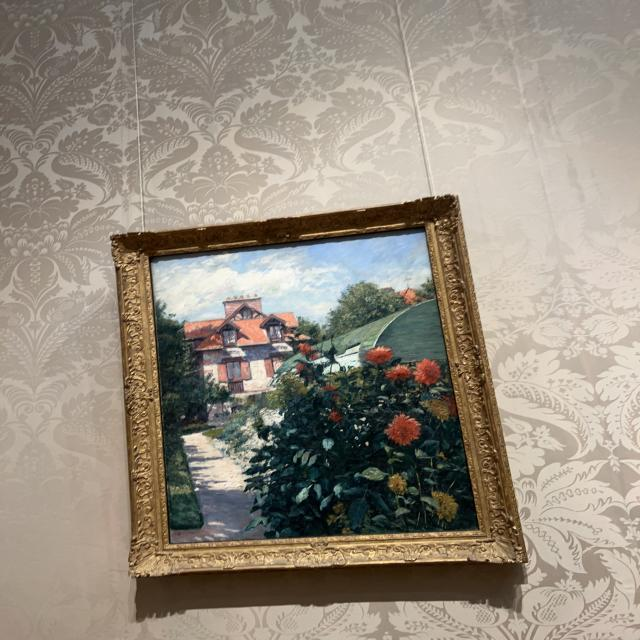summer: (153, 234, 475, 542)
